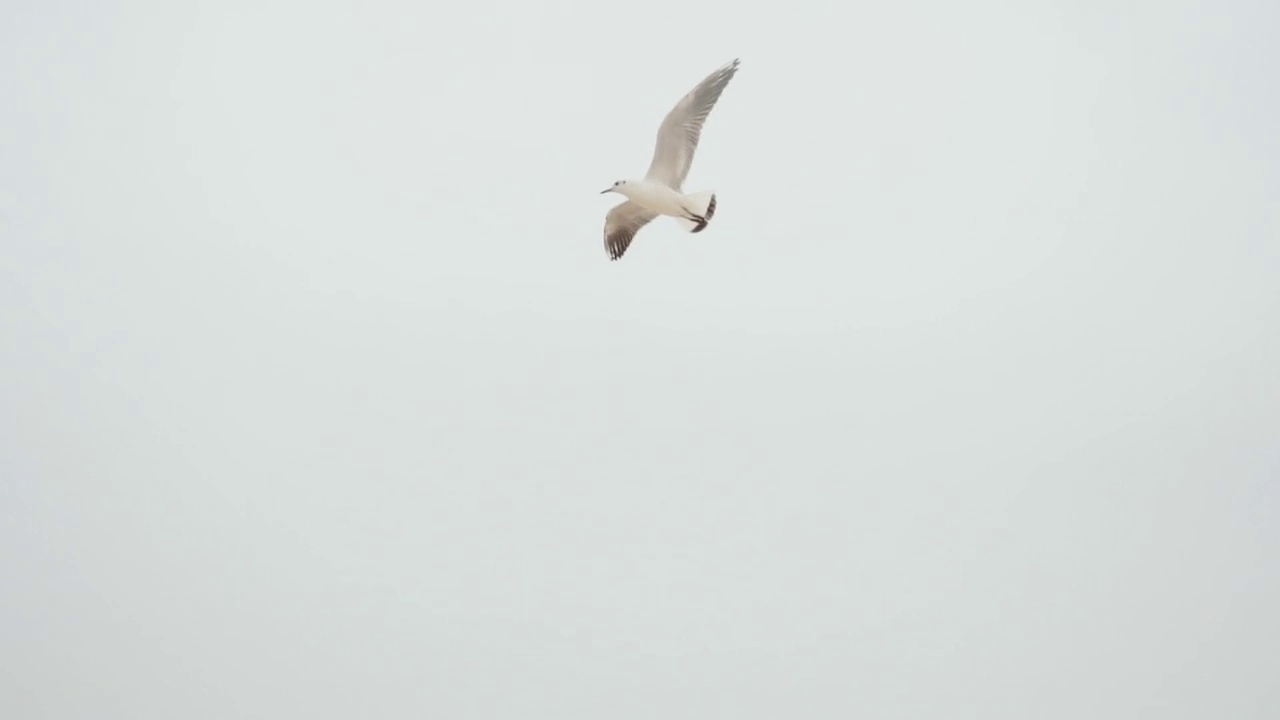bird: (602, 59, 742, 262)
